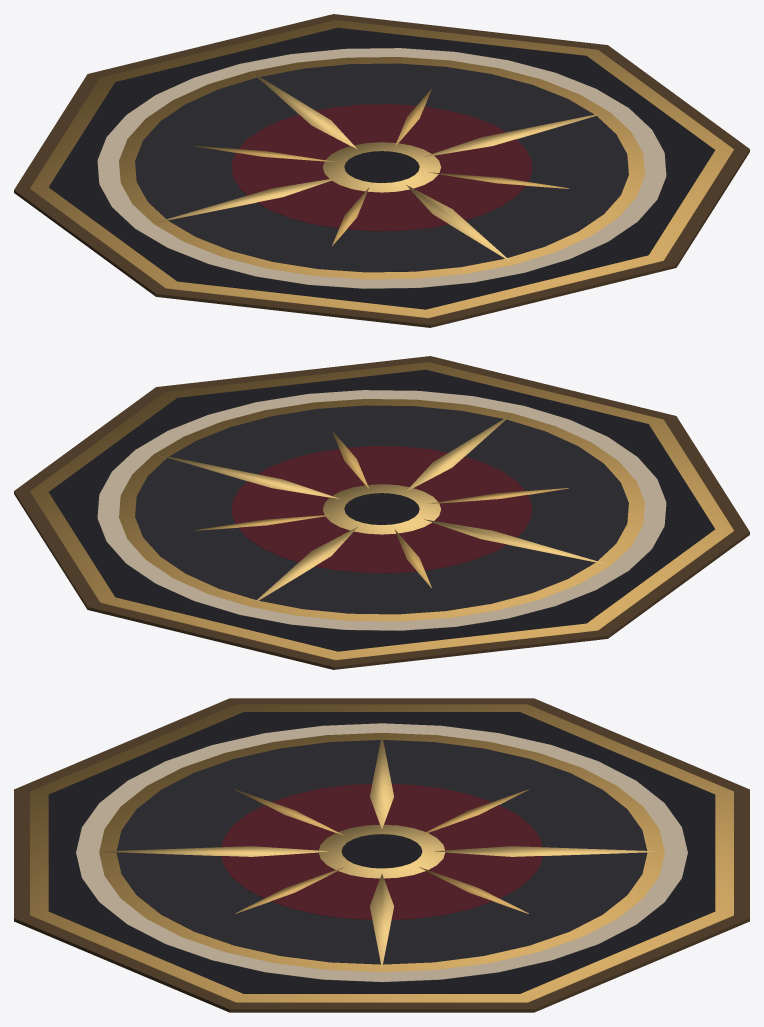
The model's file is elevator_floor_medallion.glb.
3 renders of one model, top to bottom at view 1: azimuth 30°, elevation 25°; view 2: azimuth 150°, elevation 25°; view 3: azimuth 270°, elevation 25°, orthographic. The views are drawn at different scales.
Visible parts, largest first — view 1: elevator_floor_medallion_nero, elevator_floor_medallion_obsidian, elevator_floor_medallion_brass, elevator_floor_medallion_burgundy, elevator_floor_medallion_bronze_dk, elevator_floor_medallion_travertine, elevator_floor_medallion_brass_hi; view 2: elevator_floor_medallion_nero, elevator_floor_medallion_obsidian, elevator_floor_medallion_brass, elevator_floor_medallion_burgundy, elevator_floor_medallion_bronze_dk, elevator_floor_medallion_travertine, elevator_floor_medallion_brass_hi; view 3: elevator_floor_medallion_nero, elevator_floor_medallion_obsidian, elevator_floor_medallion_brass, elevator_floor_medallion_burgundy, elevator_floor_medallion_bronze_dk, elevator_floor_medallion_travertine, elevator_floor_medallion_brass_hi.
Boxes of the visible parts, x1,y1,x2,y2 form: elevator_floor_medallion_nero: [135, 63, 628, 272]; elevator_floor_medallion_obsidian: [49, 27, 715, 309]; elevator_floor_medallion_brass: [30, 20, 733, 318]; elevator_floor_medallion_burgundy: [231, 104, 532, 231]; elevator_floor_medallion_bronze_dk: [14, 14, 749, 327]; elevator_floor_medallion_travertine: [97, 48, 666, 288]; elevator_floor_medallion_brass_hi: [158, 73, 605, 262]; elevator_floor_medallion_nero: [135, 405, 628, 614]; elevator_floor_medallion_obsidian: [48, 369, 714, 651]; elevator_floor_medallion_brass: [30, 362, 733, 660]; elevator_floor_medallion_burgundy: [231, 446, 532, 573]; elevator_floor_medallion_bronze_dk: [14, 356, 749, 669]; elevator_floor_medallion_travertine: [97, 390, 666, 630]; elevator_floor_medallion_brass_hi: [158, 415, 605, 604]; elevator_floor_medallion_nero: [116, 740, 647, 964]; elevator_floor_medallion_obsidian: [48, 712, 715, 993]; elevator_floor_medallion_brass: [30, 704, 733, 1002]; elevator_floor_medallion_burgundy: [221, 784, 542, 919]; elevator_floor_medallion_bronze_dk: [14, 698, 749, 1012]; elevator_floor_medallion_travertine: [76, 723, 687, 981]; elevator_floor_medallion_brass_hi: [105, 735, 658, 968].
Bounding box in the file's own units: 2.55 × 0.0225 × 2.55.
